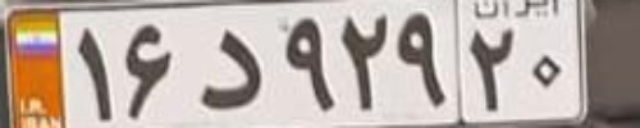0: (528, 54, 563, 88)
1: (75, 26, 113, 121)
2: (340, 14, 389, 110), (468, 27, 513, 111)
6: (121, 24, 173, 119)
9: (284, 18, 335, 111), (397, 12, 445, 109)
dal: (196, 28, 261, 109)
